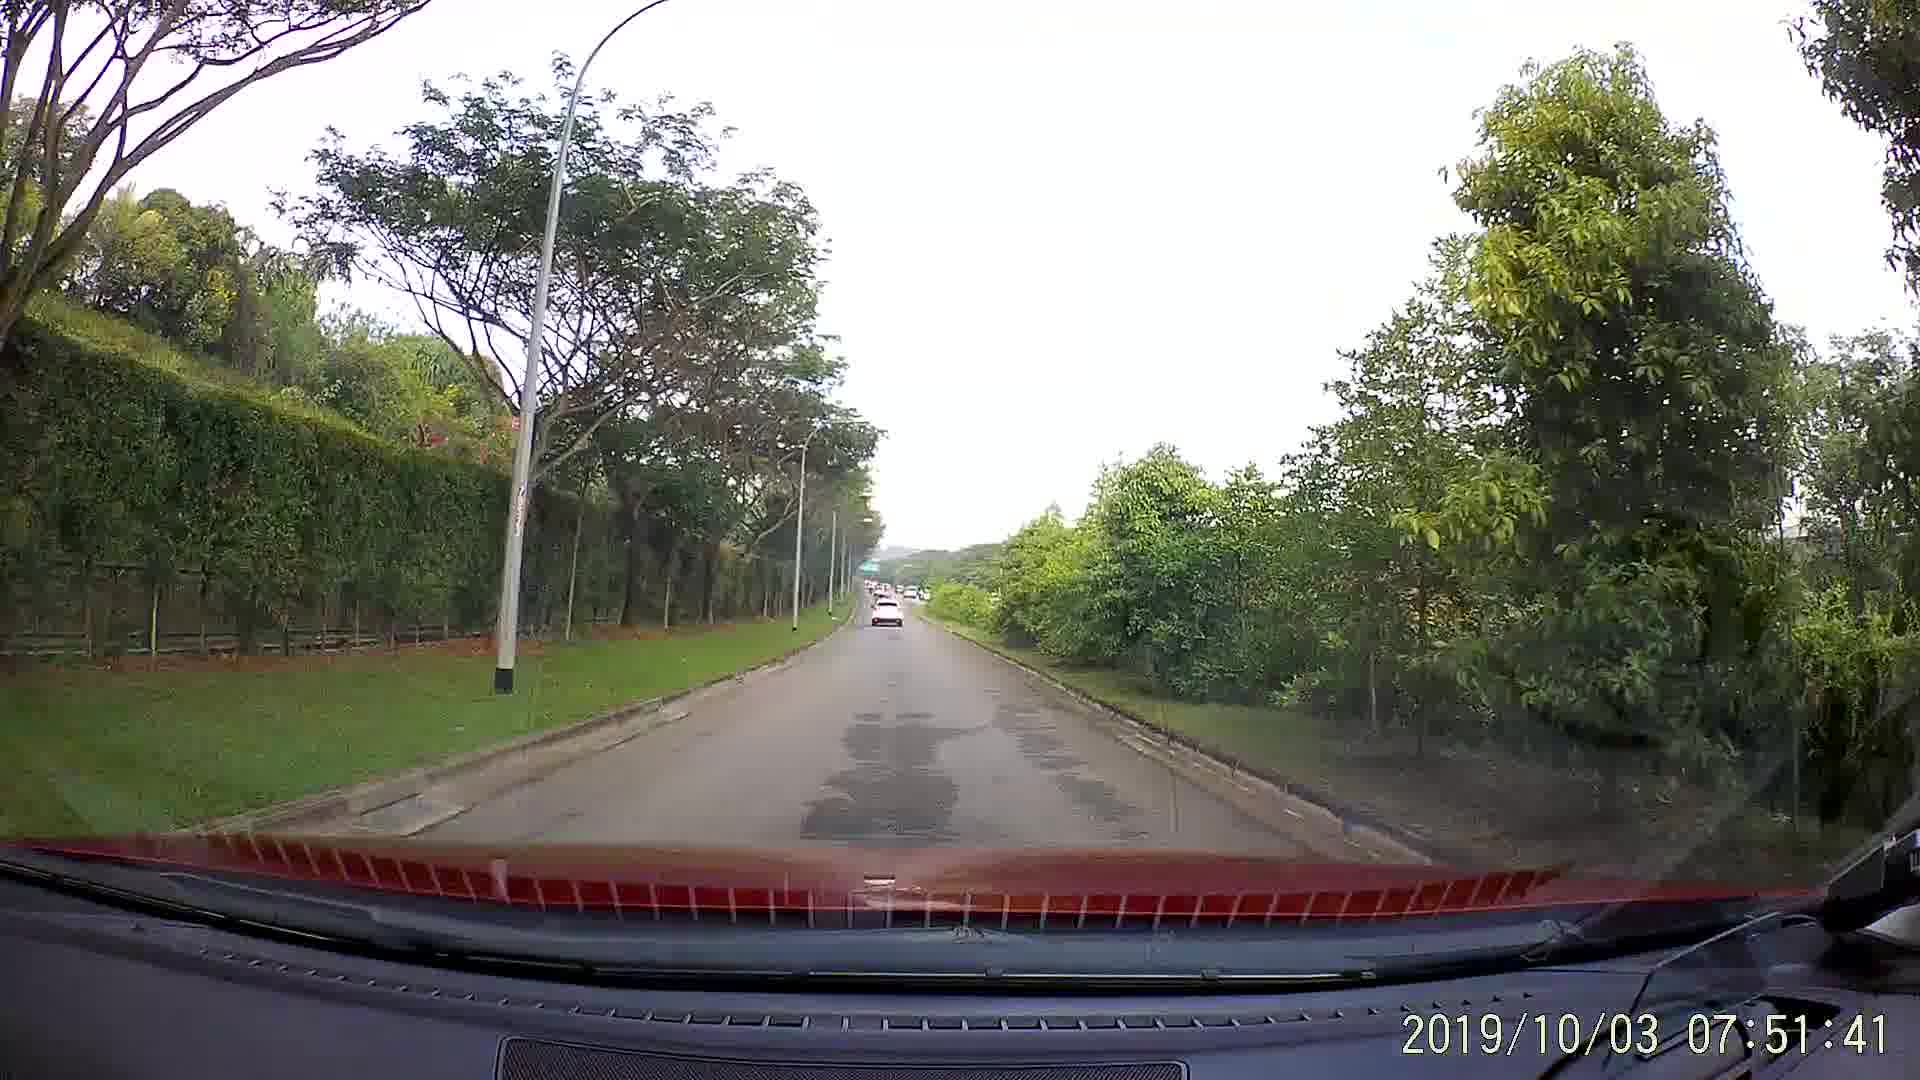car: (870, 597, 905, 632)
